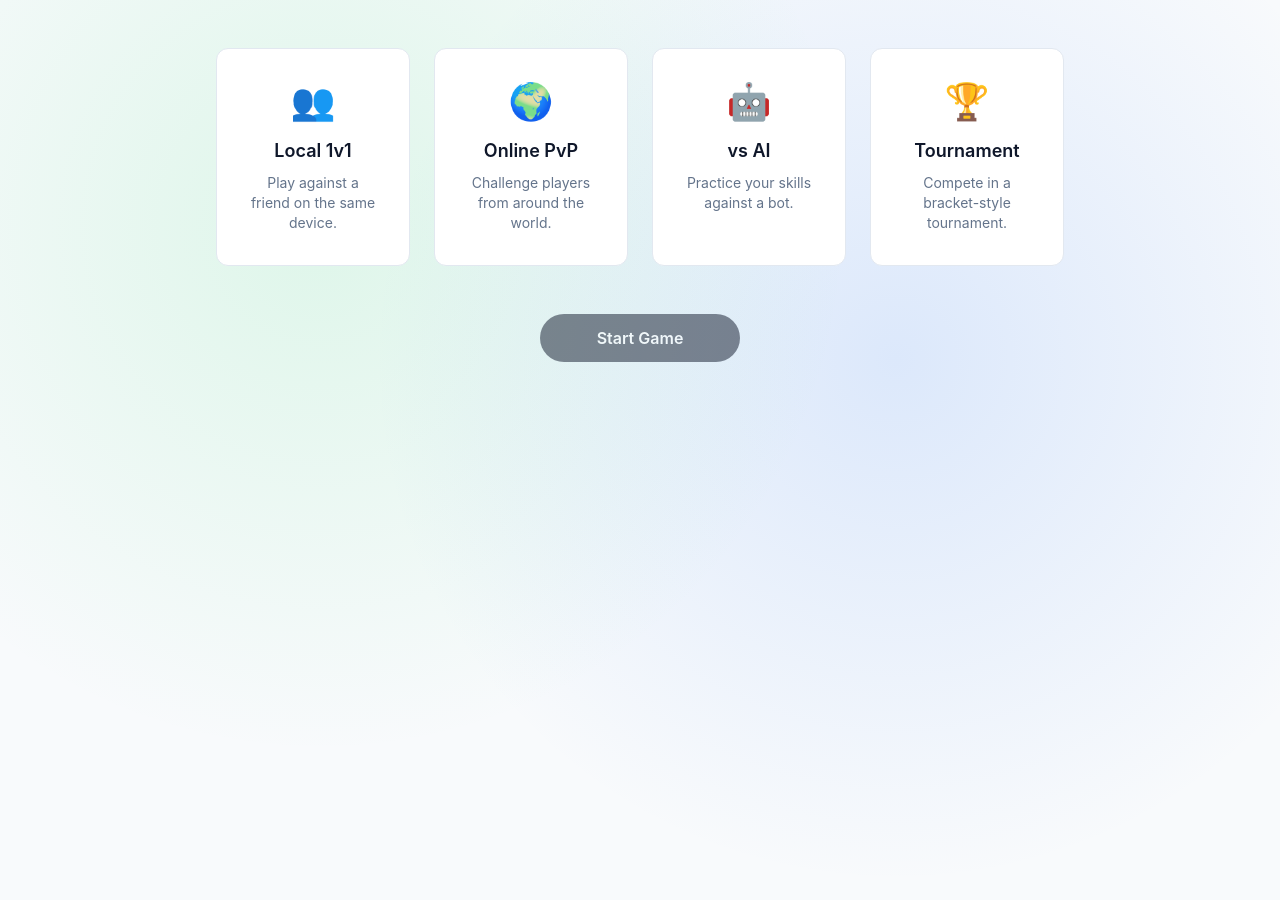
GameLobbyPage › shows matching spinner for public remote game
Step 1. Click the heading "Online PvP" → coordinates (531, 151), box [484,137,578,165]
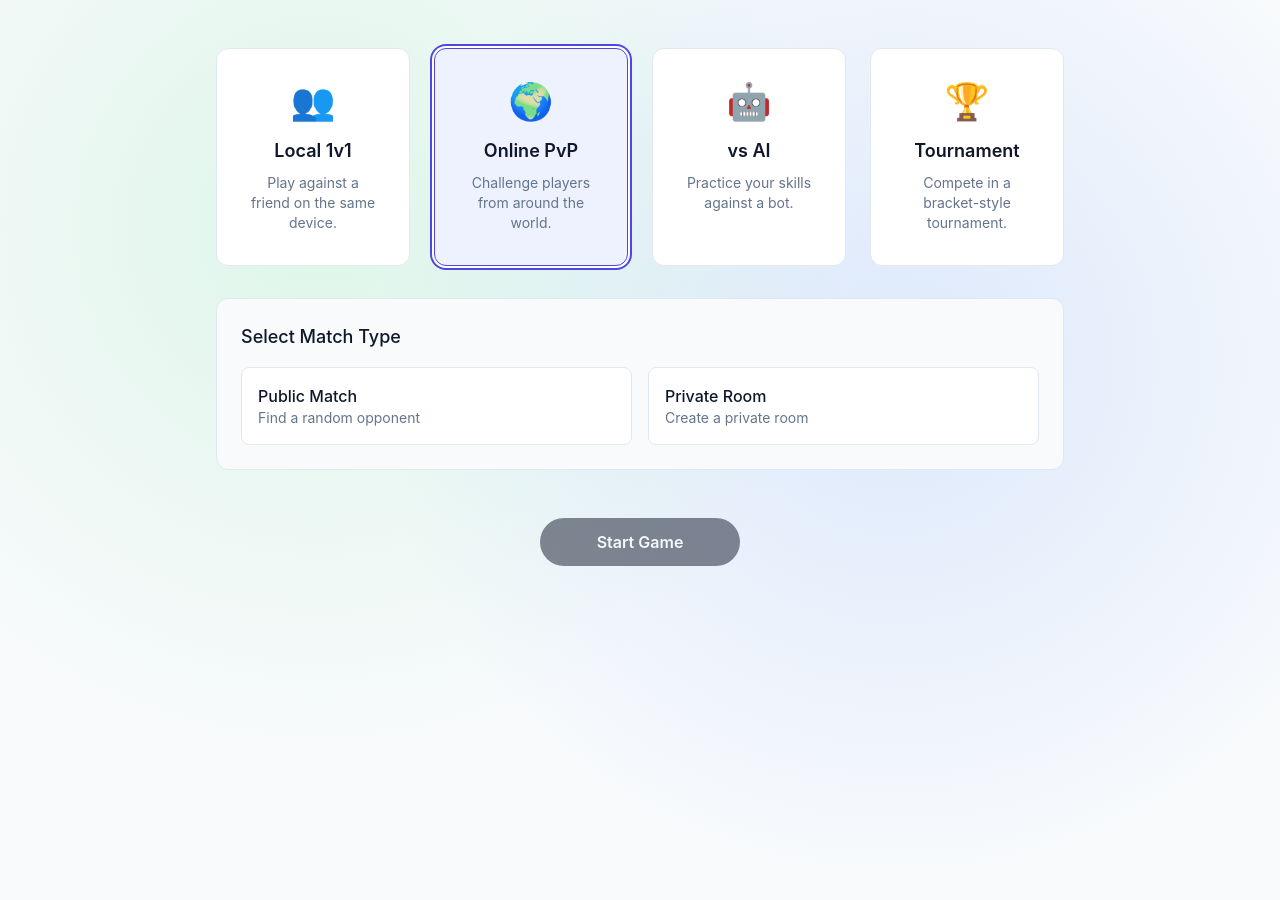
Step 2. Click the text "Public Match" → coordinates (308, 396), box [258,386,357,406]
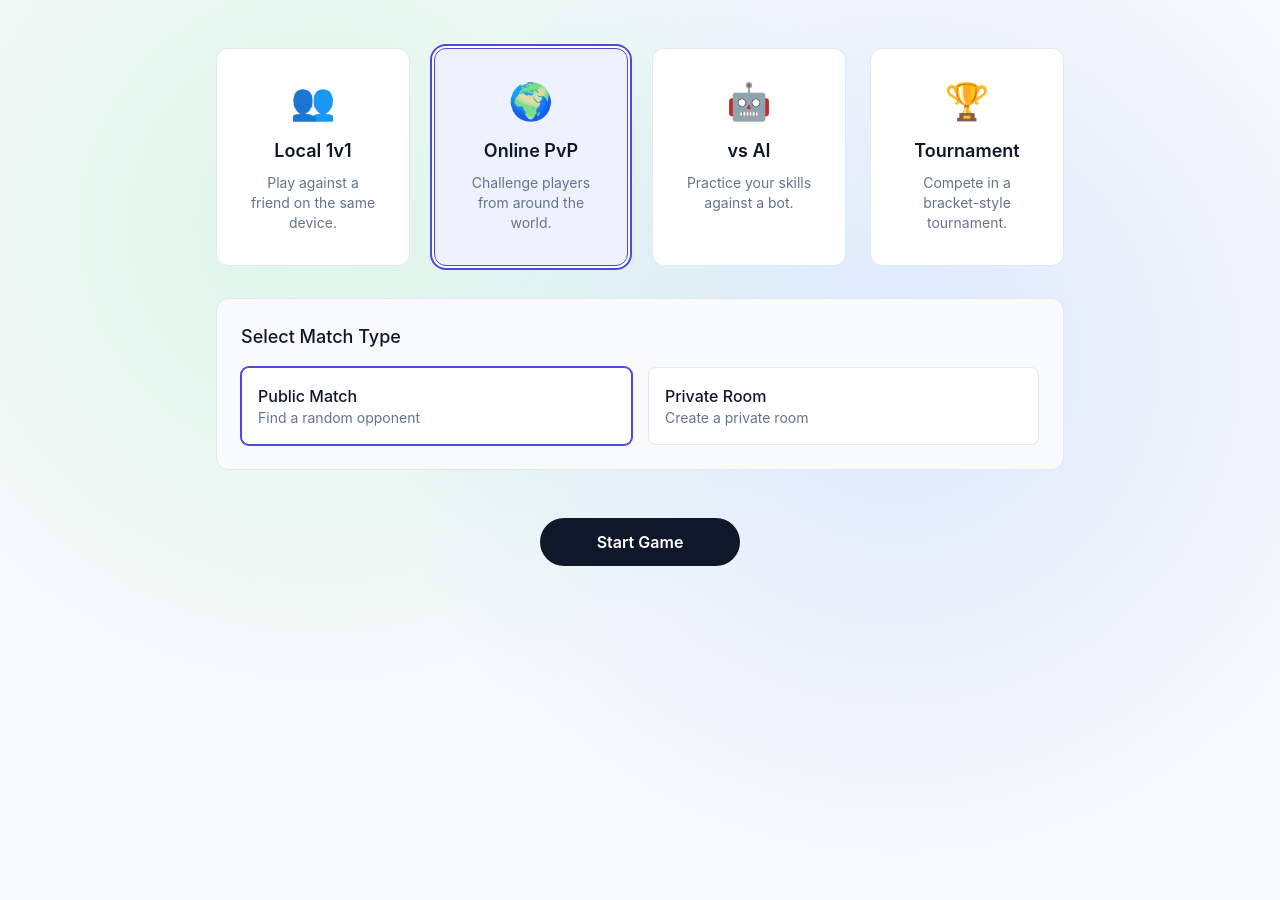
Expected: the button "Start Game" is enabled
Step 3. Click the button "Start Game" → coordinates (640, 542), box [540,518,740,566]
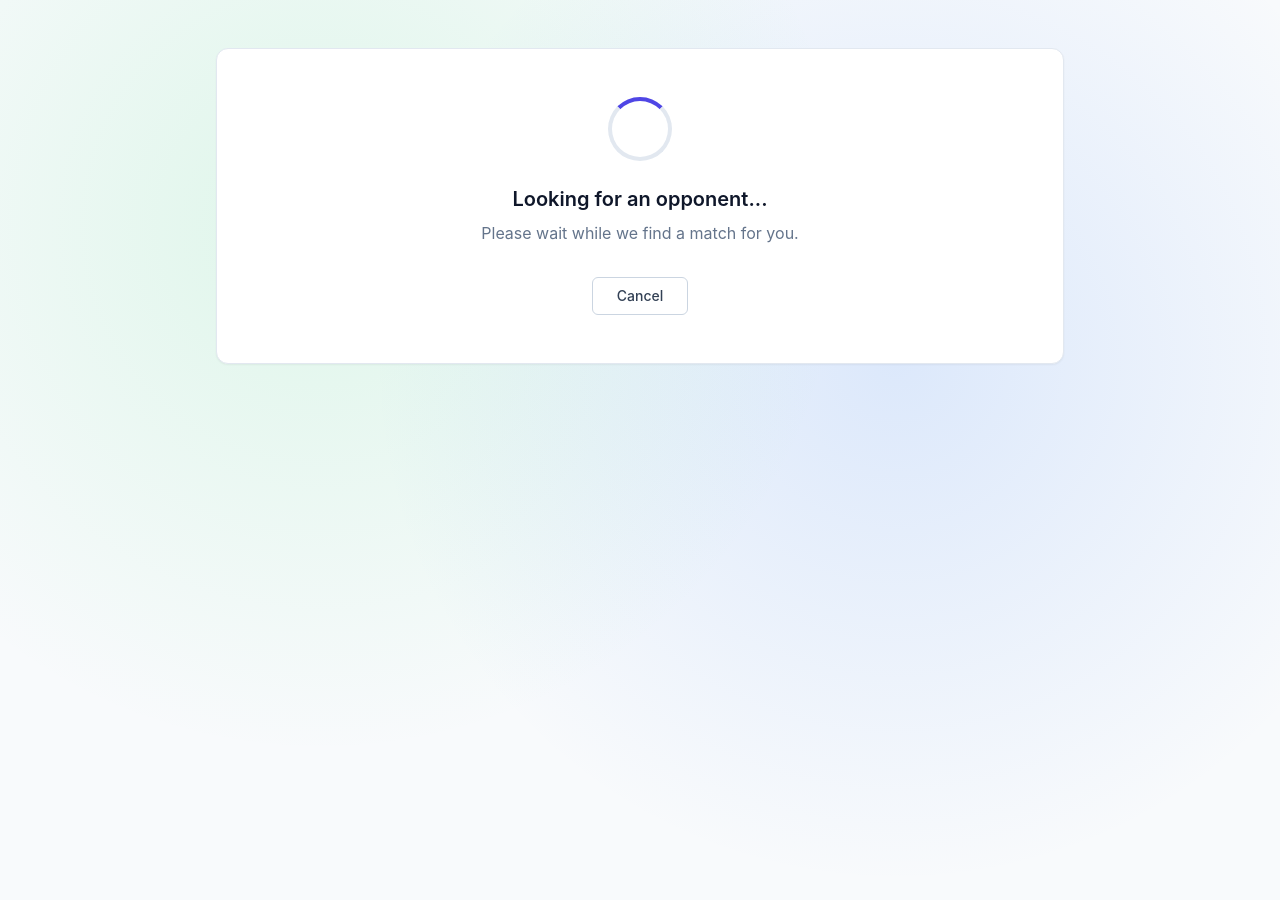
Expected: the heading "Looking for an opponent..." is shown, [512,185,768,213]
Expected: the button "Cancel" is shown, [592,277,688,315]
